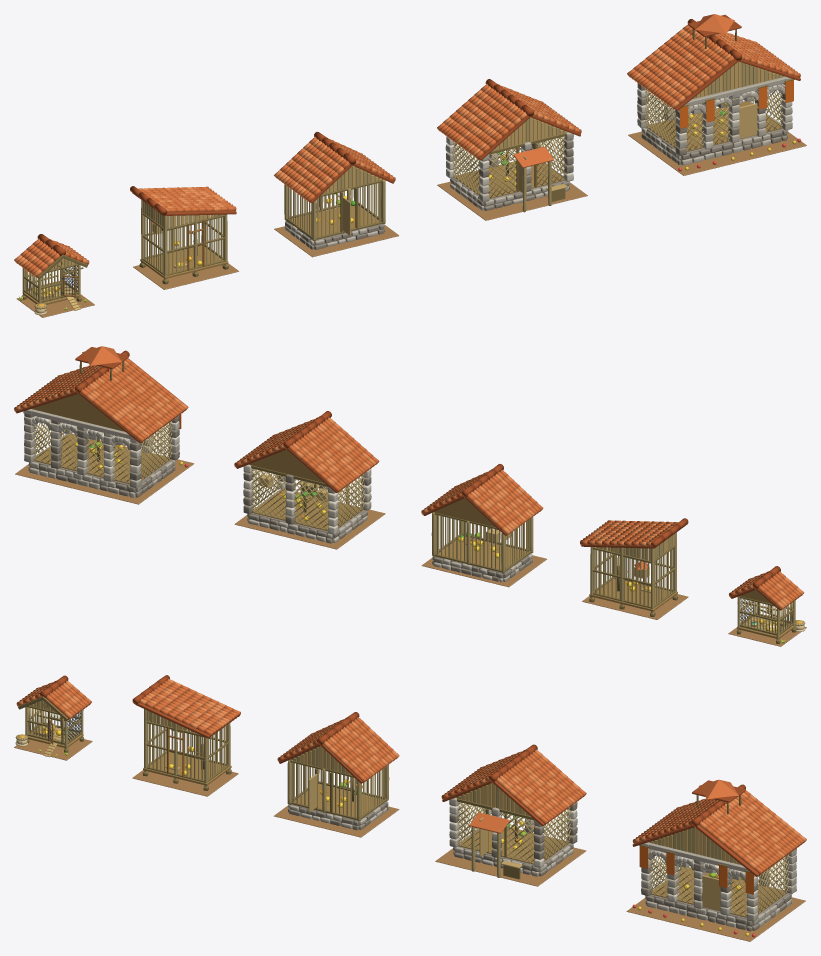
File: voliere-niveaux.glb
3 views of the same model, one above another, from view 1: azimuth 30°, elevation 25°; view 2: azimuth 150°, elevation 25°; view 3: azimuth 330°, elevation 25° (orthographic).
Visible parts, largest first — view 1: tuile.012, tuile.009, latte.002, pierre.005, latte.003, latte, tuile.007, latte.001, tuile.013, terre_battue.004, pierre.006, tuile.010 (+31 smaller); view 2: tuile.012, tuile.009, pierre.005, latte.002, latte.003, latte, latte.001, tuile.007, tuile.013, pierre.006, plancher.004, tuile.010 (+28 smaller); view 3: tuile.012, tuile.009, pierre.005, tuile.007, latte.002, latte.003, tuile.013, latte, tuile.004, latte.001, terre_battue.004, tuile.010 (+32 smaller).
Boxes of the visible parts, bbox=[...] form: tuile.012: bbox=[627, 24, 800, 107]; tuile.009: bbox=[437, 84, 581, 159]; latte.002: bbox=[452, 136, 566, 197]; pierre.005: bbox=[637, 84, 792, 165]; latte.003: bbox=[645, 83, 783, 150]; latte: bbox=[144, 215, 223, 273]; tuile.007: bbox=[279, 137, 395, 202]; latte.001: bbox=[288, 182, 381, 237]; tuile.013: bbox=[632, 29, 794, 109]; terre_battue.004: bbox=[628, 131, 806, 175]; pierre.006: bbox=[637, 83, 787, 164]; tuile.010: bbox=[443, 84, 575, 157]; tuile.012: bbox=[17, 358, 185, 442]; tuile.009: bbox=[234, 419, 379, 492]; pierre.005: bbox=[24, 416, 179, 497]; latte.002: bbox=[251, 469, 365, 530]; latte.003: bbox=[33, 416, 172, 482]; latte: bbox=[593, 547, 673, 606]; latte.001: bbox=[436, 515, 529, 569]; tuile.007: bbox=[424, 470, 543, 529]; tuile.013: bbox=[14, 360, 187, 438]; pierre.006: bbox=[24, 413, 179, 497]; plancher.004: bbox=[34, 433, 170, 484]; tuile.010: bbox=[240, 417, 376, 486]; tuile.012: bbox=[635, 790, 804, 874]; tuile.009: bbox=[441, 750, 586, 824]; pierre.005: bbox=[641, 848, 796, 927]; tuile.007: bbox=[277, 717, 396, 782]; latte.002: bbox=[457, 802, 571, 863]; latte.003: bbox=[650, 849, 788, 916]; tuile.013: bbox=[632, 792, 806, 868]; latte: bbox=[147, 715, 227, 780]; tuile.004: bbox=[143, 681, 240, 736]; latte.001: bbox=[291, 762, 385, 817]; terre_battue.004: bbox=[626, 897, 805, 941]; tuile.010: bbox=[444, 749, 580, 818].
Size of the model in its own units: 25.07 by 3.96 by 3.2.
